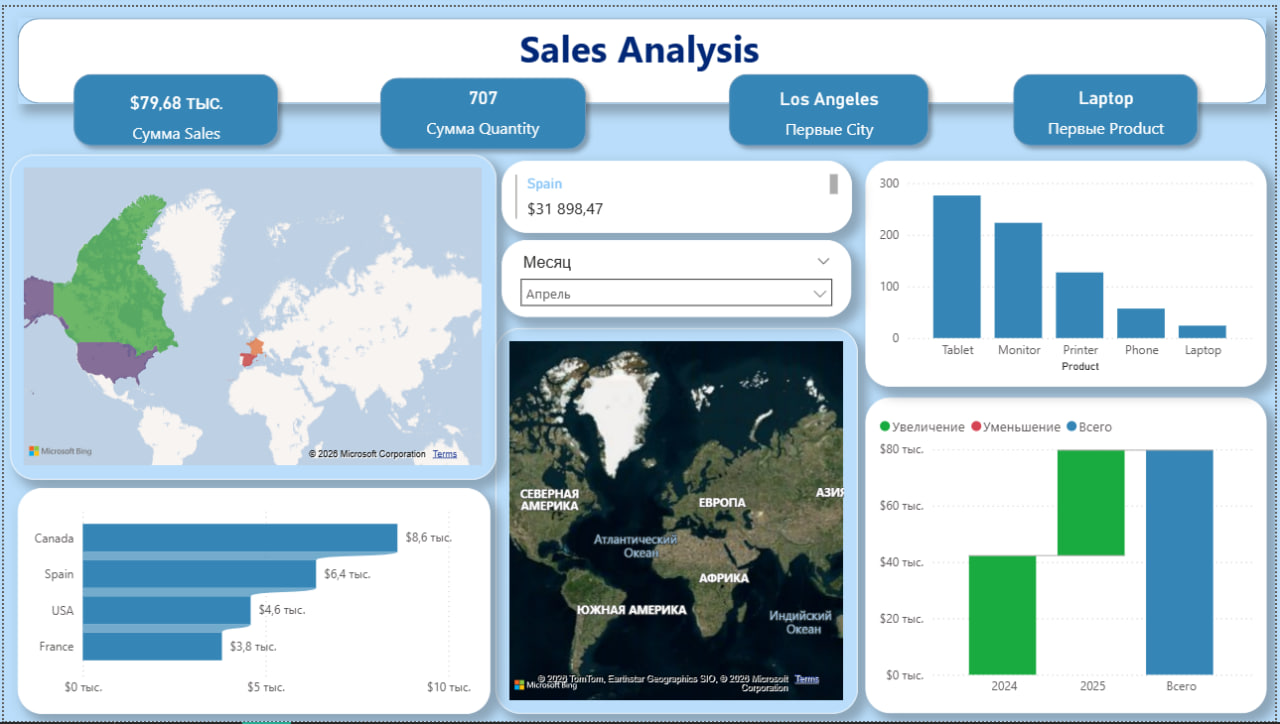

The dashboard page shown, as its layout file describes it:
{"tool":"powerbi","page":{"name":"Страница 1","canvas":[1280,720],"ordinal":0},"visuals":[{"type":"filledMap","fields":{"Category":["Maps.City"],"Y":["Avg(Maps.Latitude)"],"X":["Avg(Maps.Longitude)"]},"box":[495.6,324.1,364.5,388.7],"z":0},{"type":"filledMap","fields":{"Category":["Maps.Country"],"Y":["Avg(Maps.Latitude)"],"X":["Avg(Maps.Longitude)"]},"box":[6.3,148.1,489.3,327.7],"z":1000},{"type":"barChart","fields":{"Category":["Maps.Country"],"Y":["Avg(Maps.Sales)"]},"box":[13.5,484.8,475.8,228],"z":2000},{"type":"shape","box":[13.5,10.8,1257.8,86.2],"z":3000},{"type":"shape","box":[61.2,58.8,223.8,90],"z":4000},{"type":"shape","box":[370,62.5,225,90],"z":5000},{"type":"shape","box":[721.2,58.8,218.8,90],"z":6000},{"type":"shape","box":[1007.5,58.8,203.8,90],"z":7000},{"type":"card","fields":{"Values":["Sum(Maps.Sales)"]},"box":[106.2,67.5,135,81.2],"z":8000},{"type":"card","fields":{"Values":["Sum(Maps.Quantity)"]},"box":[413.8,62.5,137.5,81.2],"z":9000},{"type":"card","fields":{"Values":["Min(Maps.City)"]},"box":[762.5,63.8,137.5,81.2],"z":10000},{"type":"card","fields":{"Values":["Min(Maps.Product)"]},"box":[1041.2,62.5,137.5,81.2],"z":11000},{"type":"waterfallChart","fields":{"Category":["Maps.Date.Изменение.Иерархия дат.Год"],"Y":["Sum(Maps.Sales)"]},"box":[867.2,394.1,404,318.7],"z":12000},{"type":"columnChart","fields":{"Category":["Maps.Product"],"Y":["Sum(Maps.Quantity)"]},"box":[867.2,155.3,404,228],"z":13000},{"type":"multiRowCard","fields":{"Values":["Sum(Maps.Sales)","Maps.Country"]},"box":[501.2,155,352.5,72.5],"z":14000},{"type":"slicer","fields":{"Values":["Maps.Date.Изменение.Иерархия дат.Месяц"]},"box":[501.8,235.2,351.9,77.2],"z":15000},{"type":"textbox","box":[490,11.2,300,68.8],"z":16000}]}

Visuals, with their boxes in screenshot pixels (x1, y1, x2, y2), scaled from the page's 1280x720 canvas onto the 1280x724 screenshot:
filledMap - Maps.City x Avg(Maps.Latitude): box=[496, 326, 860, 717]
filledMap - Maps.Country x Avg(Maps.Latitude): box=[6, 149, 496, 478]
barChart - Maps.Country x Avg(Maps.Sales): box=[14, 487, 489, 717]
shape: box=[14, 11, 1271, 98]
shape: box=[61, 59, 285, 150]
shape: box=[370, 63, 595, 153]
shape: box=[721, 59, 940, 150]
shape: box=[1008, 59, 1211, 150]
card - Sum(Maps.Sales): box=[106, 68, 241, 150]
card - Sum(Maps.Quantity): box=[414, 63, 551, 144]
card - Min(Maps.City): box=[762, 64, 900, 146]
card - Min(Maps.Product): box=[1041, 63, 1179, 144]
waterfallChart - Maps.Date.Изменение.Иерархия дат.Год x Sum(Maps.Sales): box=[867, 396, 1271, 717]
columnChart - Maps.Product x Sum(Maps.Quantity): box=[867, 156, 1271, 385]
multiRowCard - Sum(Maps.Sales) x Maps.Country: box=[501, 156, 854, 229]
slicer - Maps.Date.Изменение.Иерархия дат.Месяц: box=[502, 237, 854, 314]
textbox: box=[490, 11, 790, 80]
